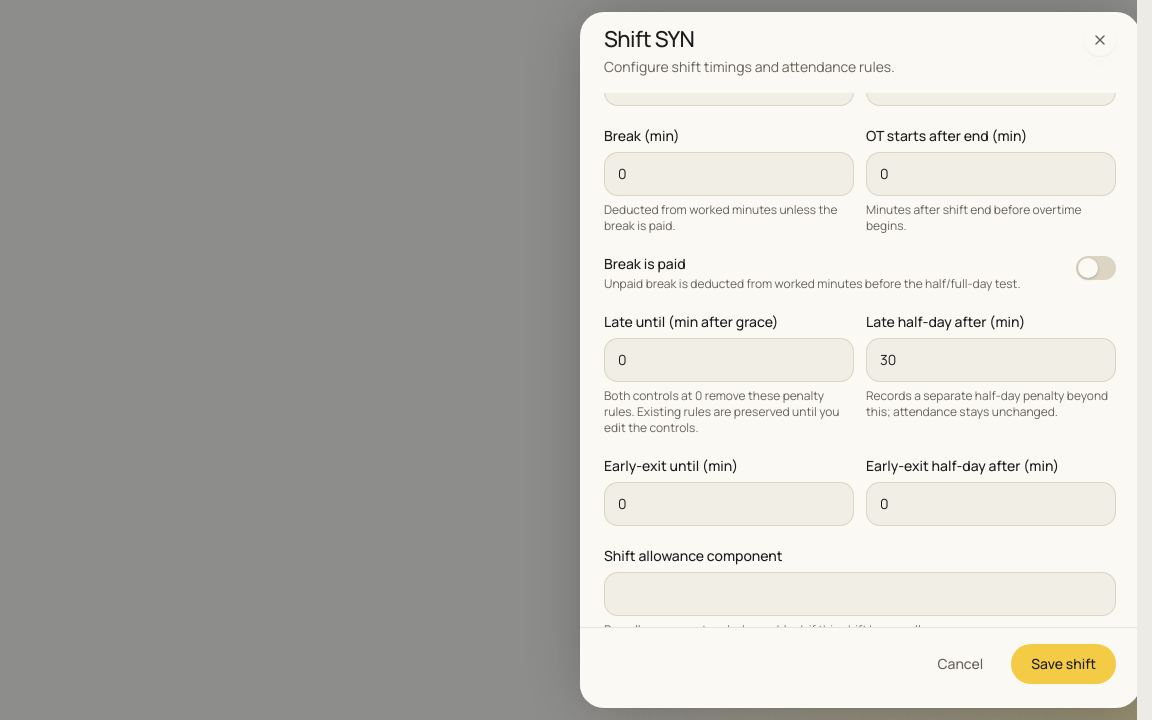
Test case: SHF-01 shift policy editor › shows threshold validation locally and sends no request for overlapping rules
(page scrolled)
Replace the text in the number field labelled "Late until (min after grace)" with "40" at coordinates (729, 360), box [604,338,854,382]
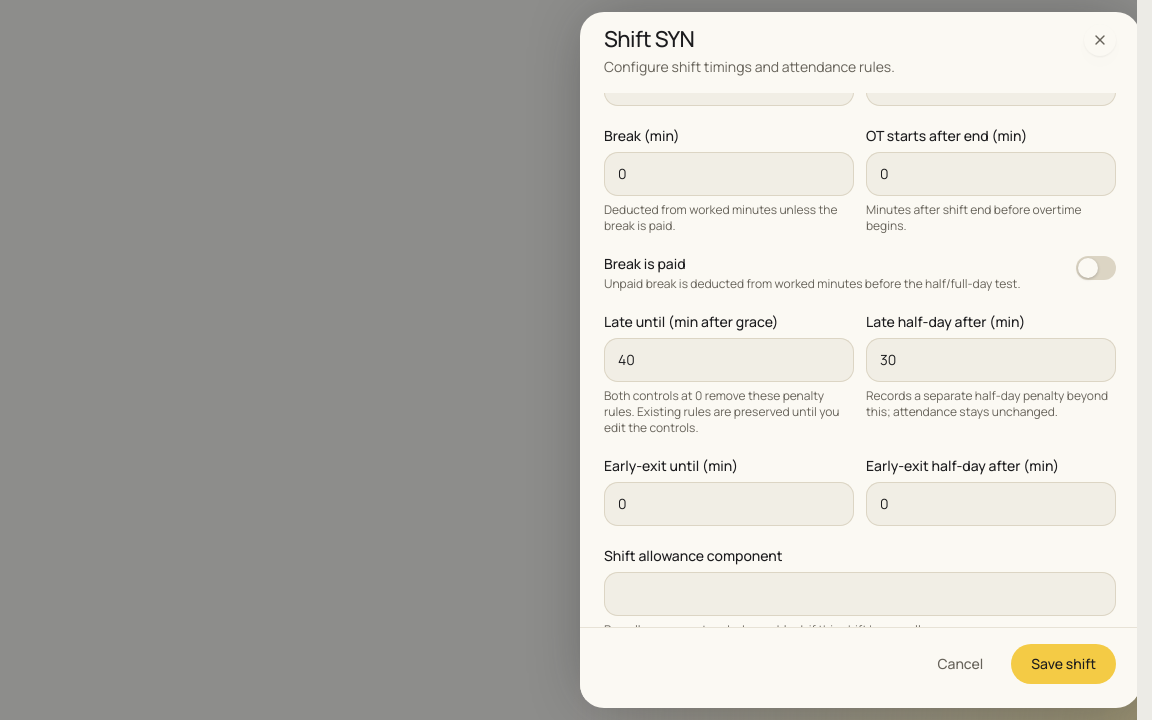
Click the button "Save shift" at coordinates (1064, 664), box [1011,644,1116,684]
(page scrolled)
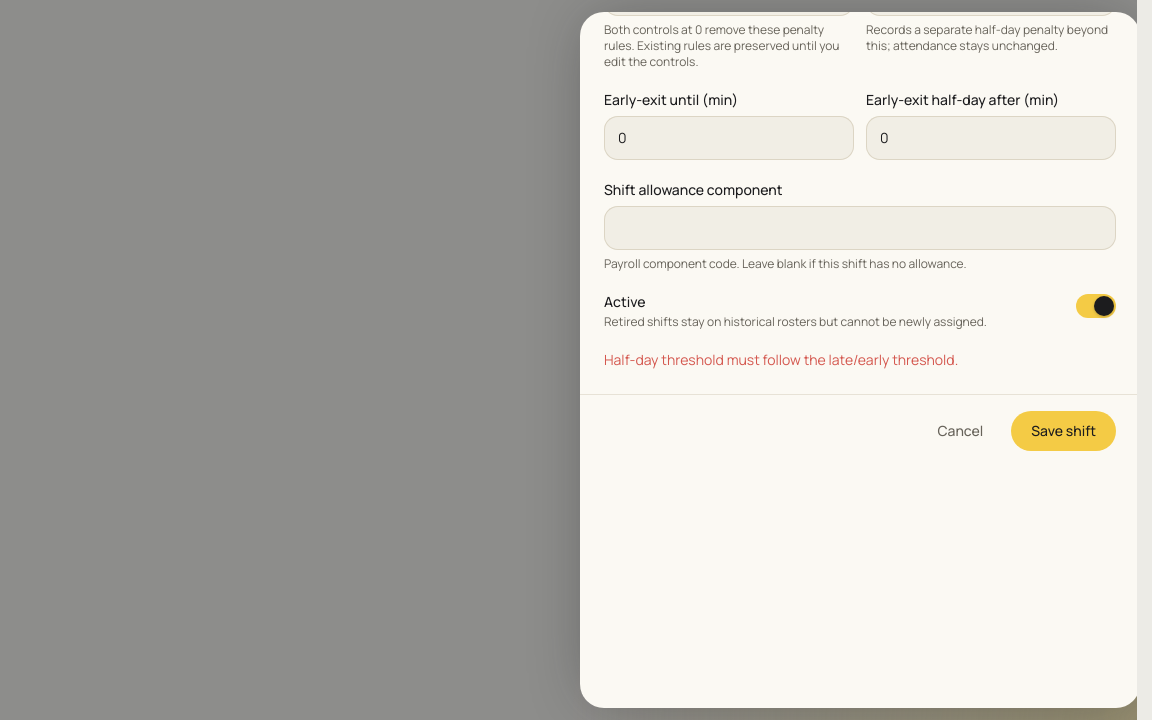
Result: the message shows "Half-day threshold must follow" at [604,350,958,369]
